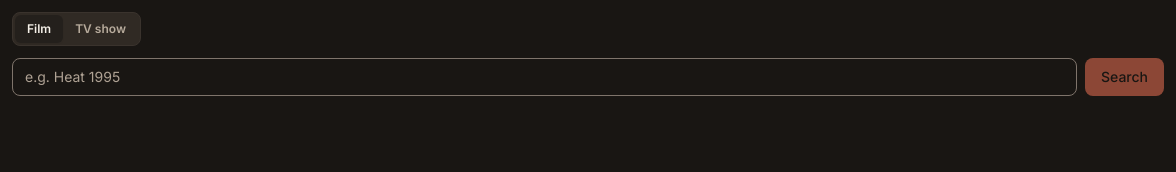
Test: CatalogSearch › shows the server detail when the catalog is slow
Type "Heat" into the field named "Title" at coordinates (544, 77), box [12,58,1077,96]
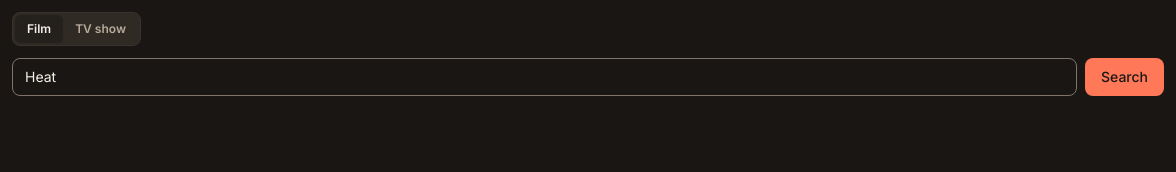
Click the button "Search" at coordinates (1124, 77), box [1085,58,1164,96]
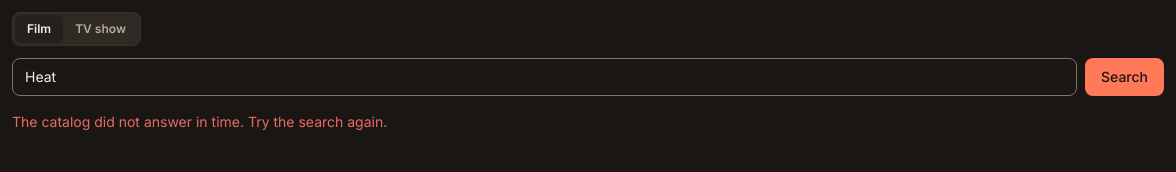
Now the message shows "did not answer in time", box [12,113,387,130]
